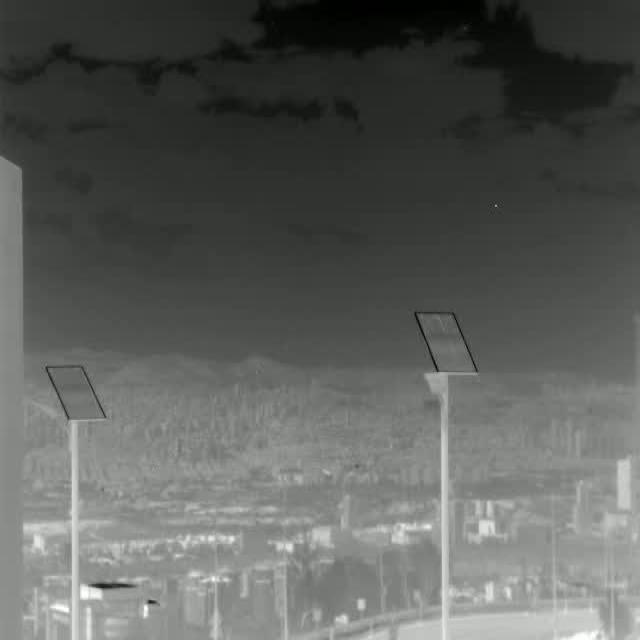Motorcycle: (388, 625, 400, 640)
